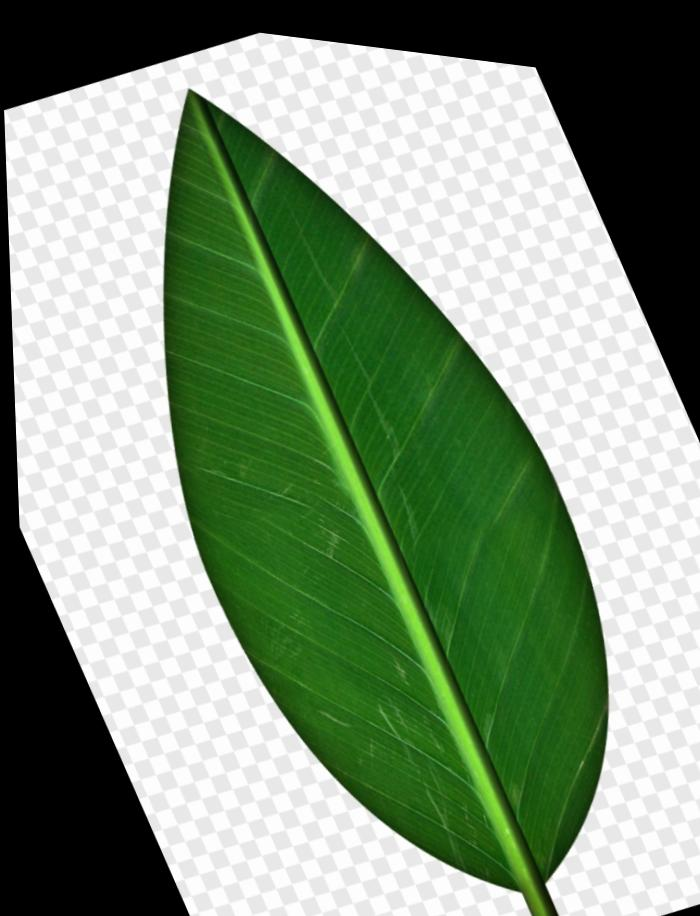Healthy Citrus: (2, 0, 700, 916)
